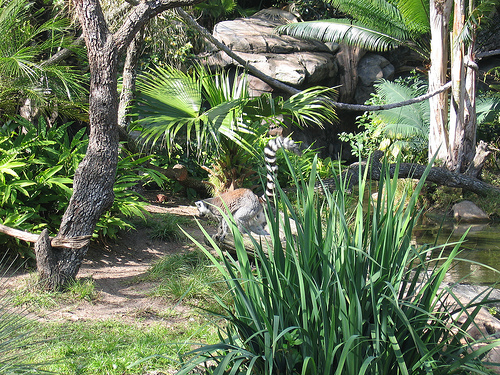cat: (193, 139, 277, 243)
